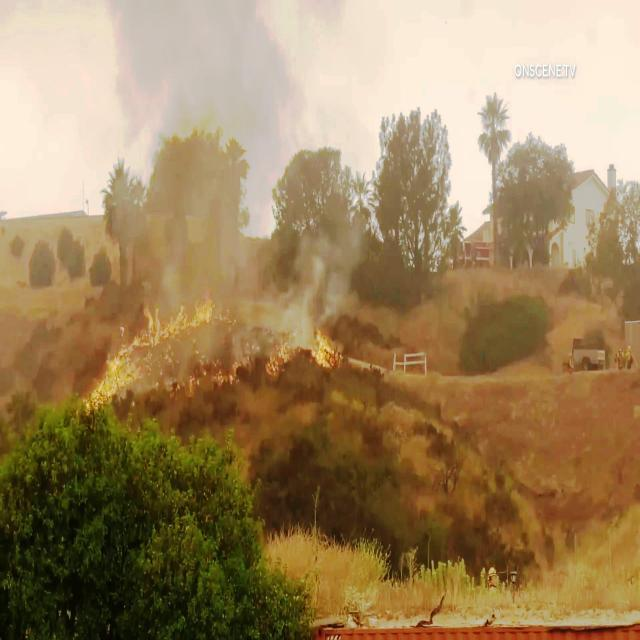Fire: (138, 292, 222, 391), (226, 323, 307, 387), (78, 328, 140, 408)
Smoke: (112, 0, 374, 300)
